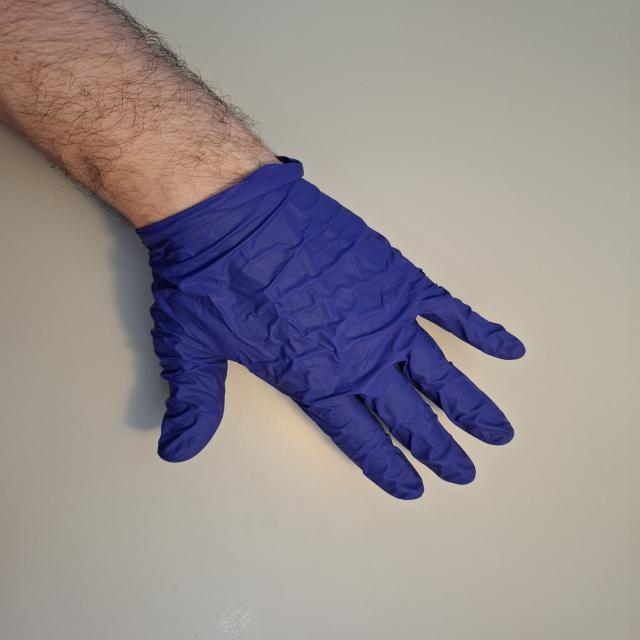glove_on: (131, 141, 530, 504)
